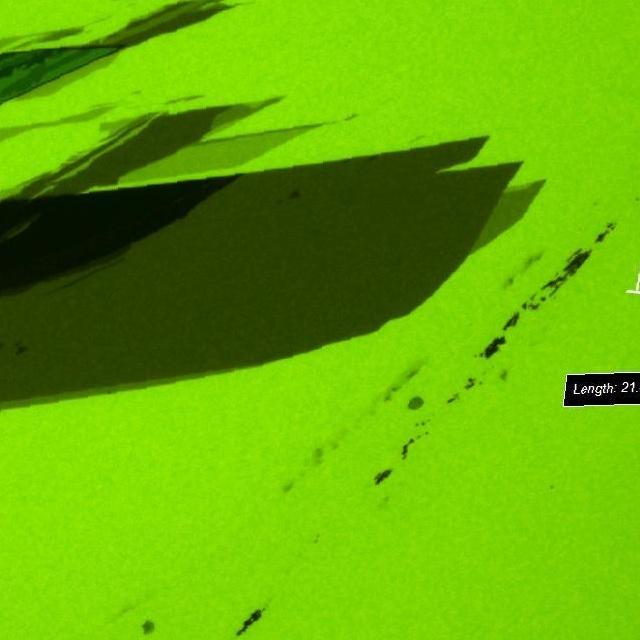monolayer-eWW4: (94, 121, 313, 188)
